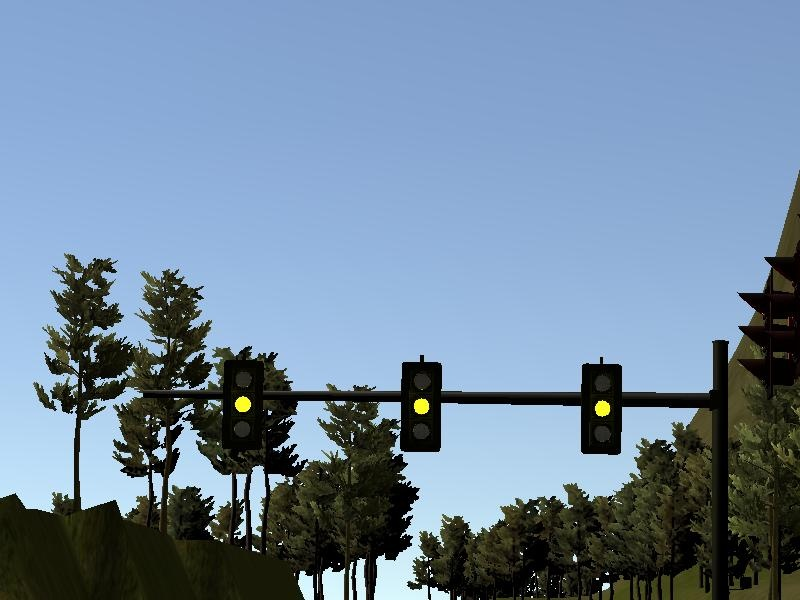YELLOW: (400, 360, 444, 455), (579, 363, 623, 458), (220, 358, 263, 453)
